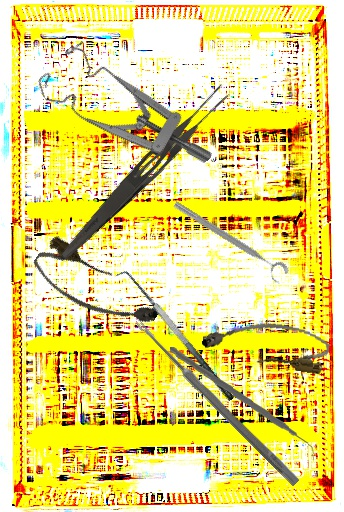Cannula: (26, 232, 165, 345), (200, 311, 332, 376)
Chopper: (164, 347, 320, 462)
Dressing Forceps: (56, 79, 235, 268)
Fixation Ring: (167, 197, 291, 287)
Spatula Surgical: (113, 263, 236, 411)
Speculum: (29, 17, 214, 217)
Surgical Spoon: (133, 318, 301, 487)
